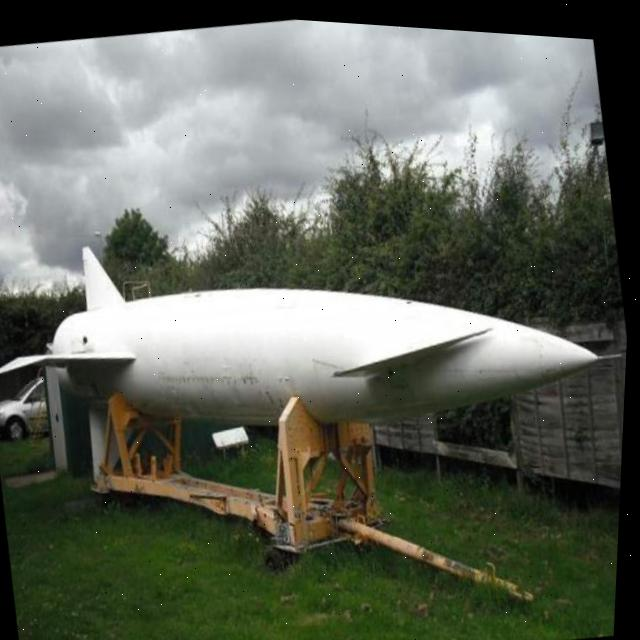missile: (0, 166, 616, 484)
